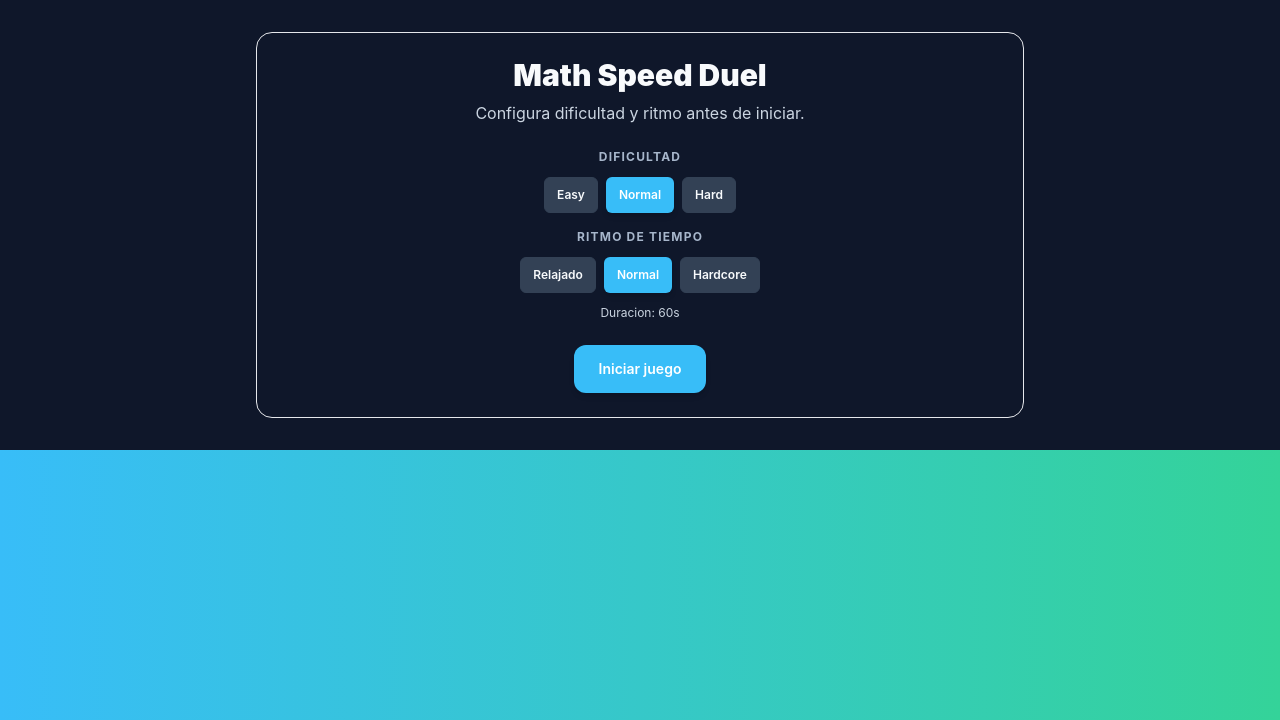
Test case: MathGameView › renders start panel and starts a session
The width and height of the screenshot is (1280, 720).
Expected: the heading "Math Speed Duel" is shown, 513,57 -> 767,93
Click the button "Iniciar juego" at (640,369), box 574,345 -> 706,393
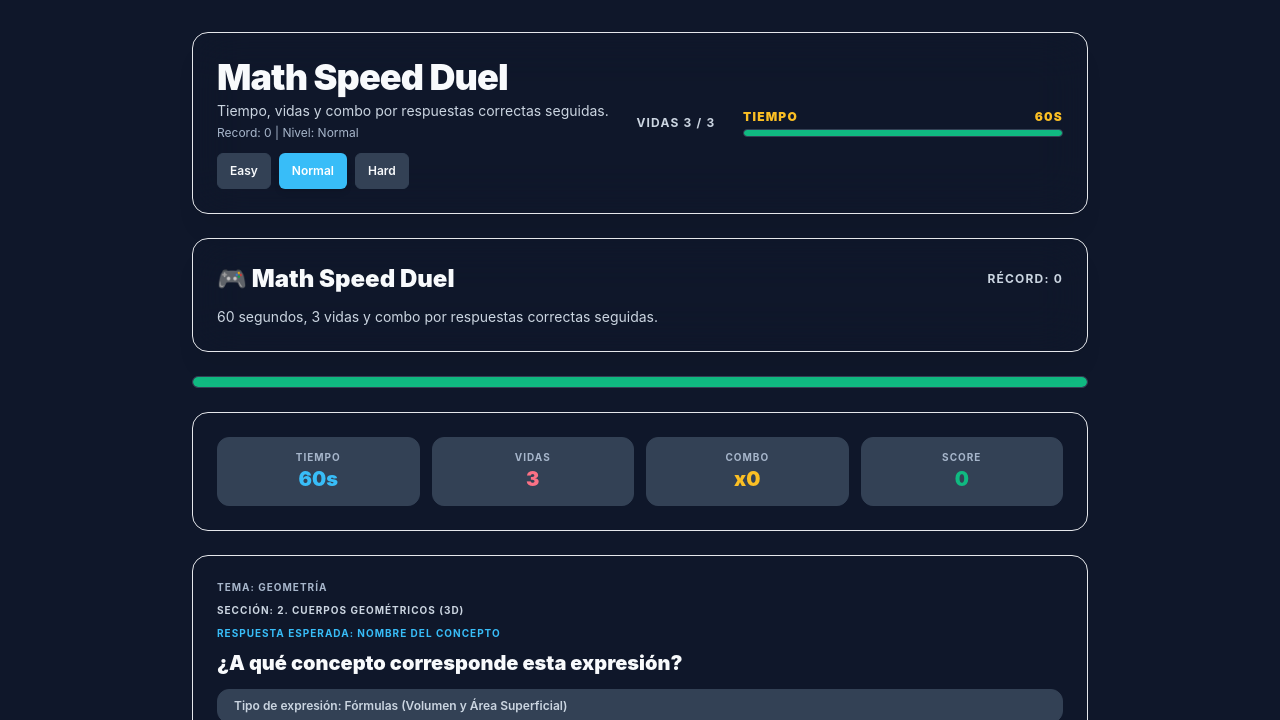
Now the text "Tema: Geometría" is shown, box 217,581 -> 328,593
Now the text "Respuesta esperada: Nombre del concepto" is shown, box 217,627 -> 501,639
